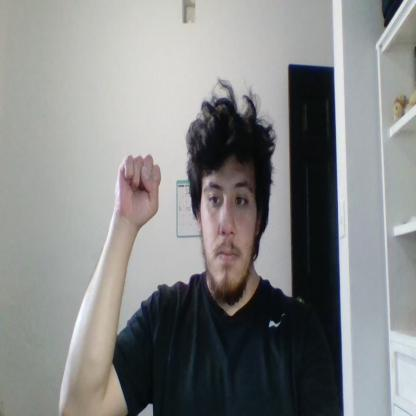S: (116, 154, 160, 228)
